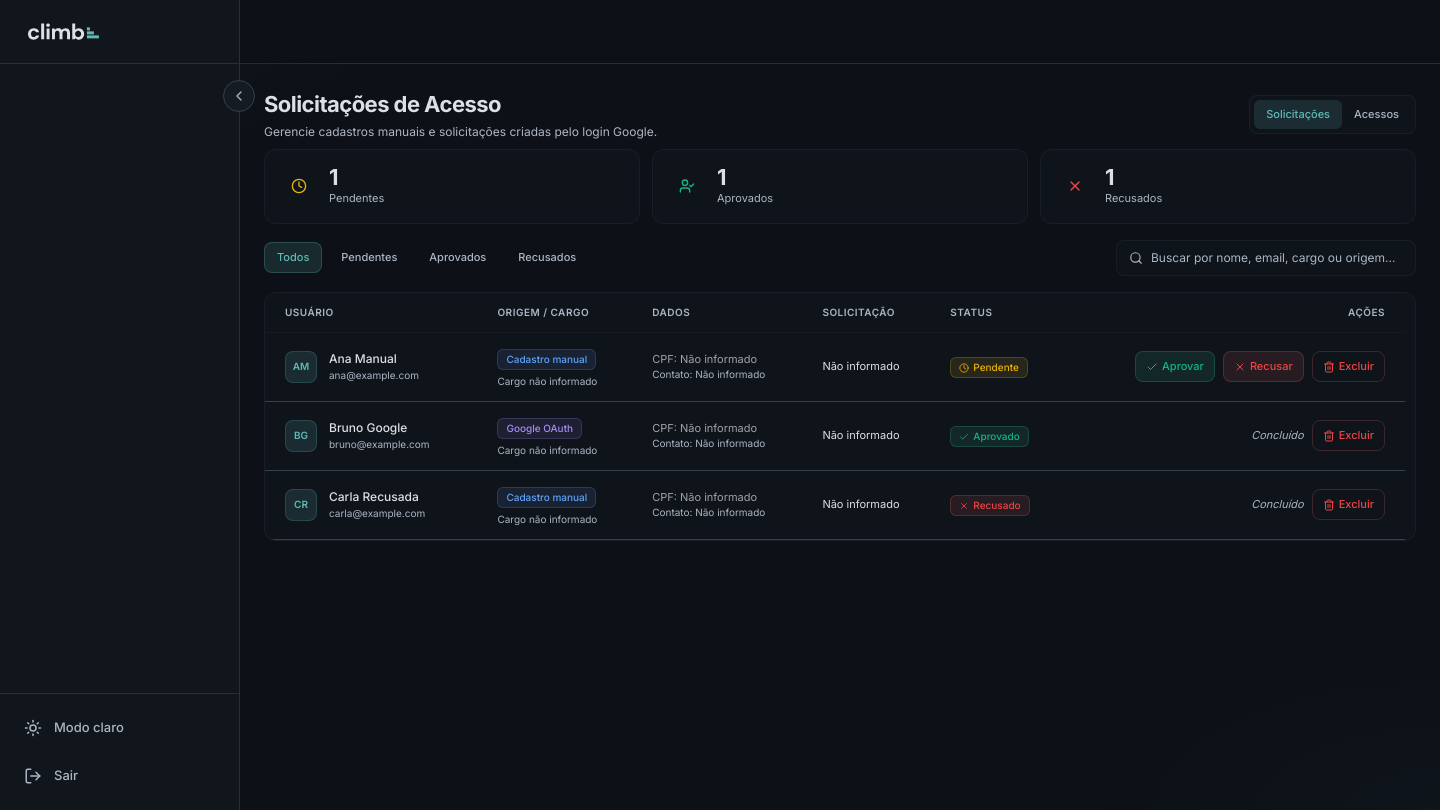
Test case: exclusão de solicitações de acesso › exclui PENDENTE da origem USUARIO e mantém as outras solicitações
This screenshot has width=1440, height=810.
Click the button with aria-label "Excluir solicitação de Ana Manual" at (1348, 367), box [1312,351,1385,382]
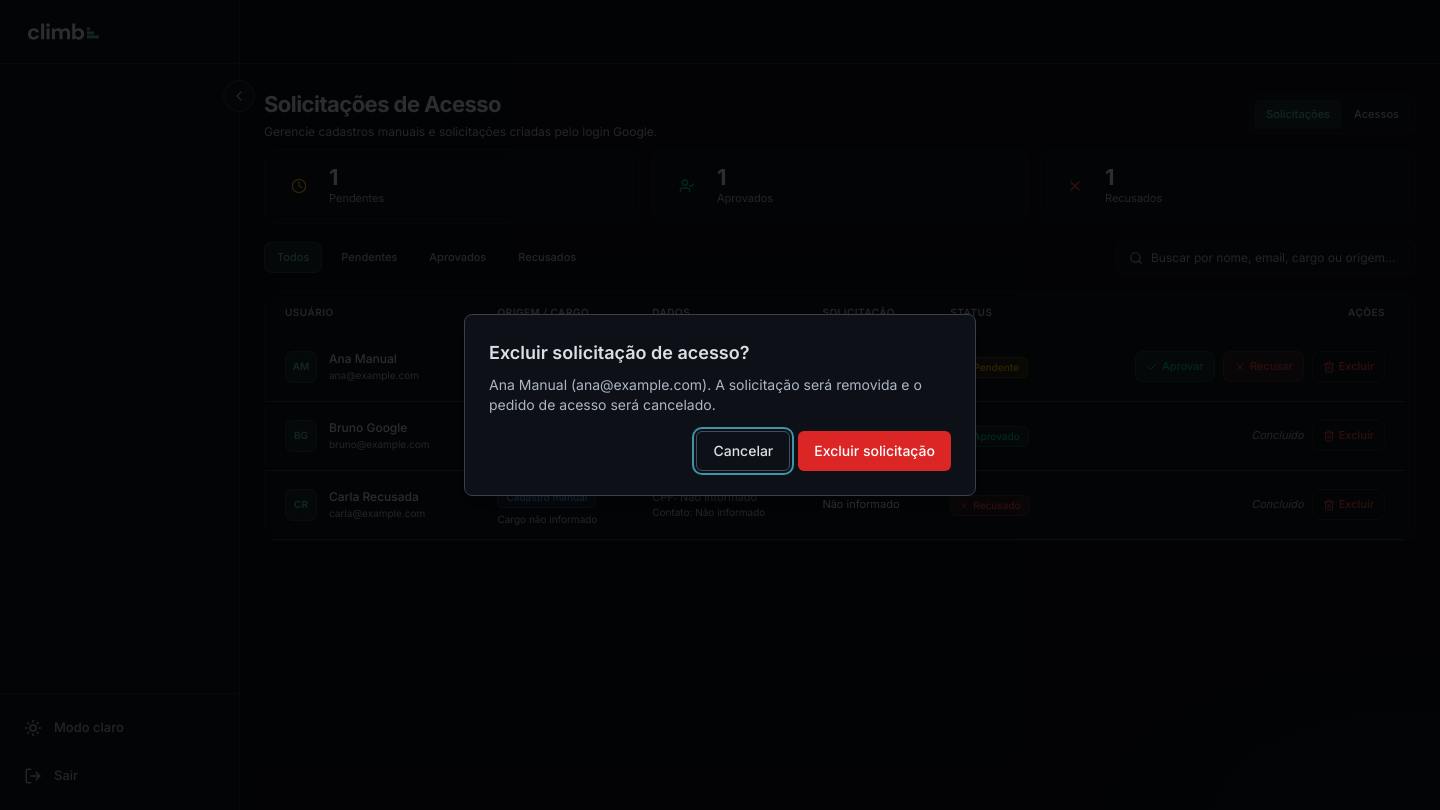
expect the dialog shows "ana@example.com": met, box [576,376,702,393]
expect the dialog shows "o pedido de acesso será cancelado": met, box [489,376,922,413]
Click the button "Excluir solicitação" at (875, 451), box [798,431,951,471]
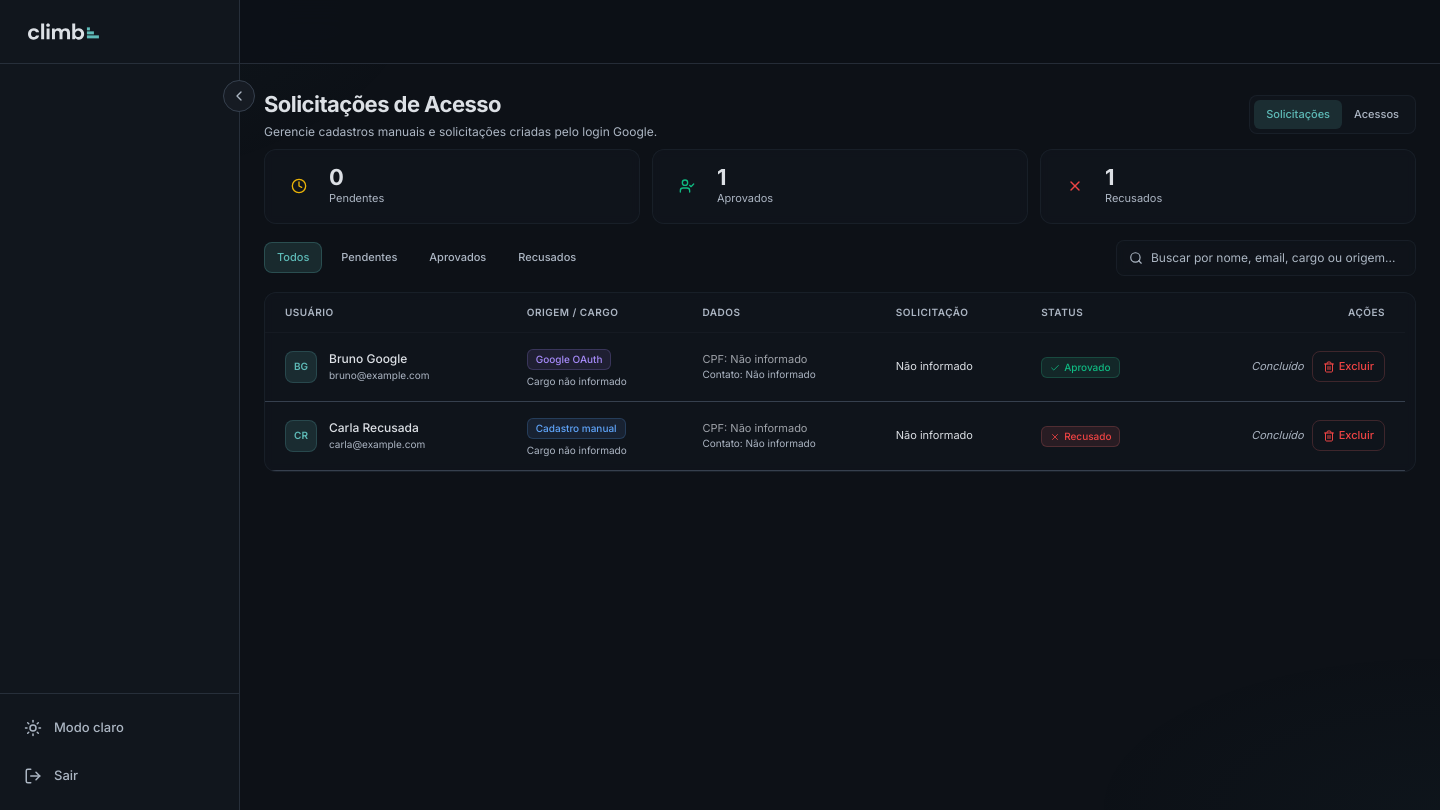
expect the dialog is gone: met
